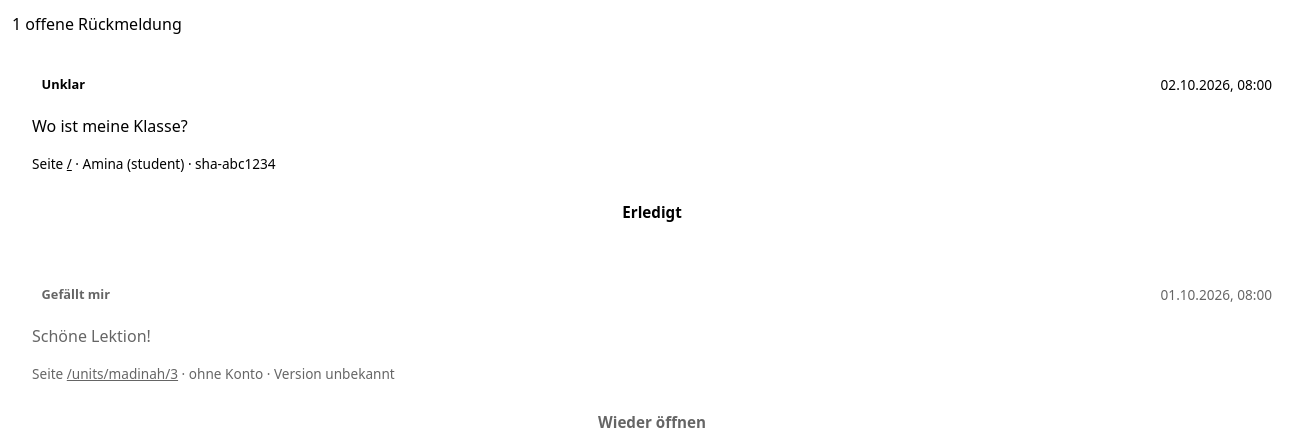
Scenario: Feedback while testing › lists reports for the admins and files them away
Expected: the text "1 offene Rückmeldung" is shown, [12,13,182,35]
Expected: the text "Unklar" is shown, [42,75,85,93]
Step 1. Click the button "Erledigt" → {"x": 652, "y": 212}, box [32,190,1272,234]
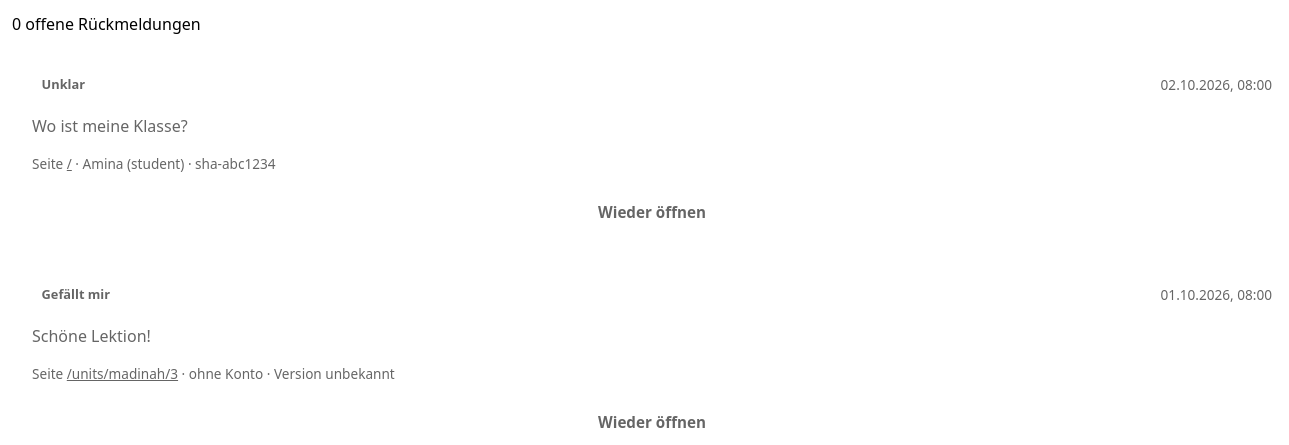
Result: the text "0 offene Rückmeldungen" is shown at [12,13,201,35]
